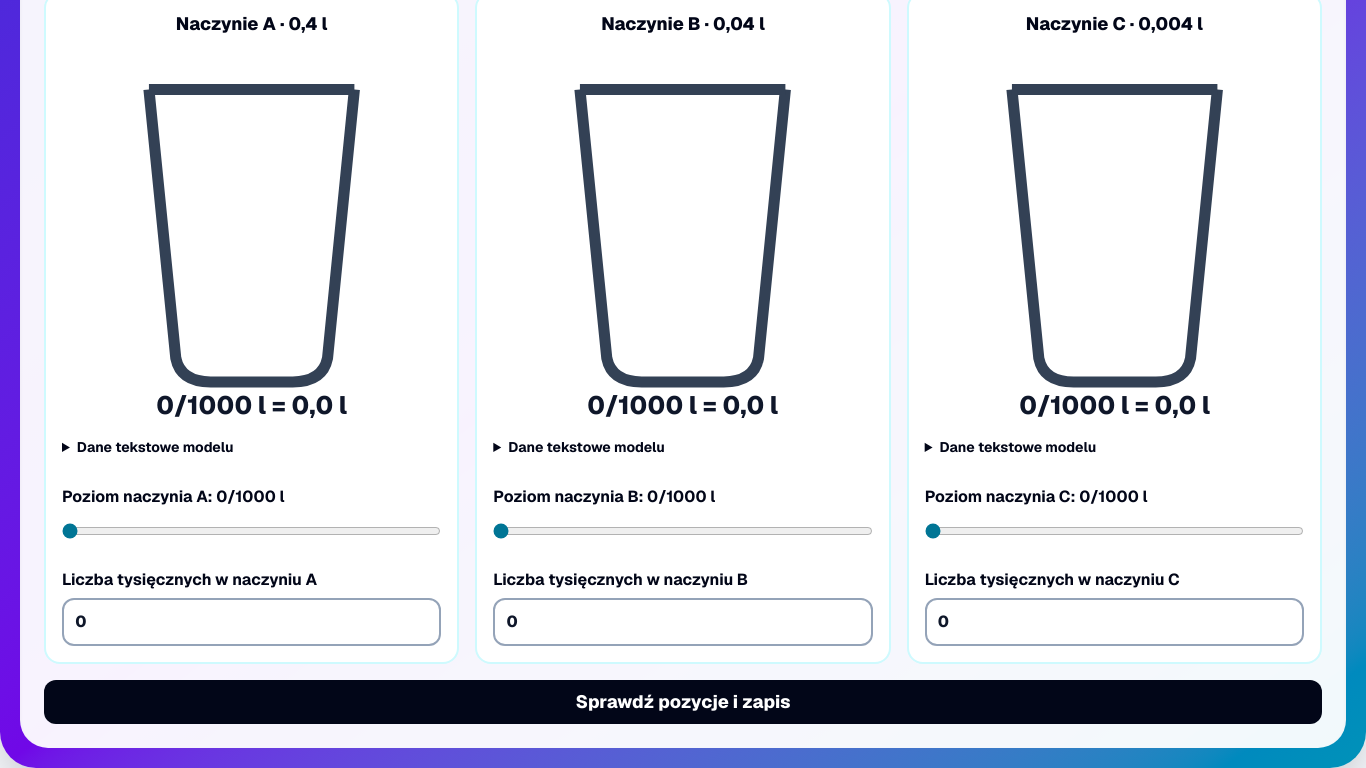
DecimalNotationL2Lab przez lokalny adapter L1 › odmierza 0,4 l, 0,04 l i 0,004 l z lekką wodą oraz alternatywą tekstową
(page scrolled)
Replace the text in the field labelled "Liczba tysięcznych w naczyniu A" with "400". click: (252, 622)
box: [62,598,441,646]
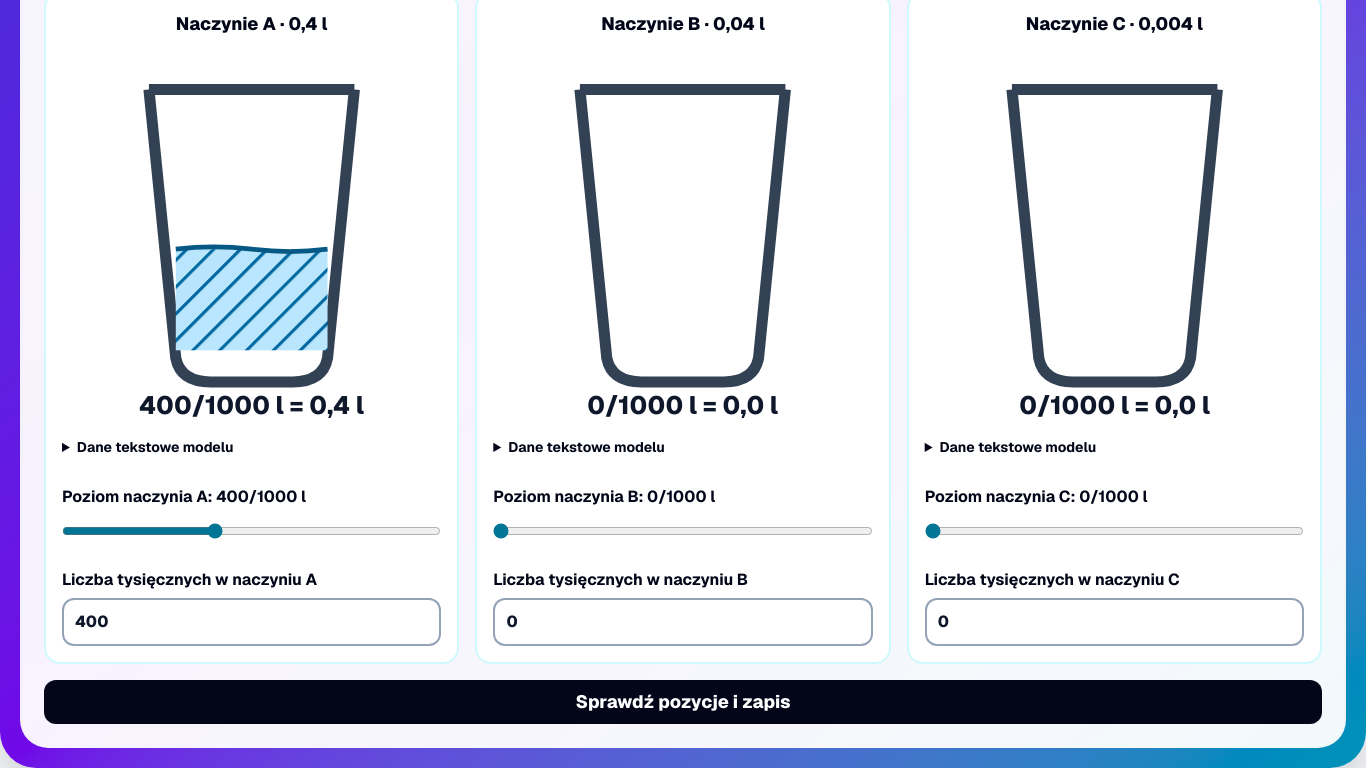
Replace the text in the field labelled "Liczba tysięcznych w naczyniu B" with "40". click: (683, 622)
box: [493,598,873,646]
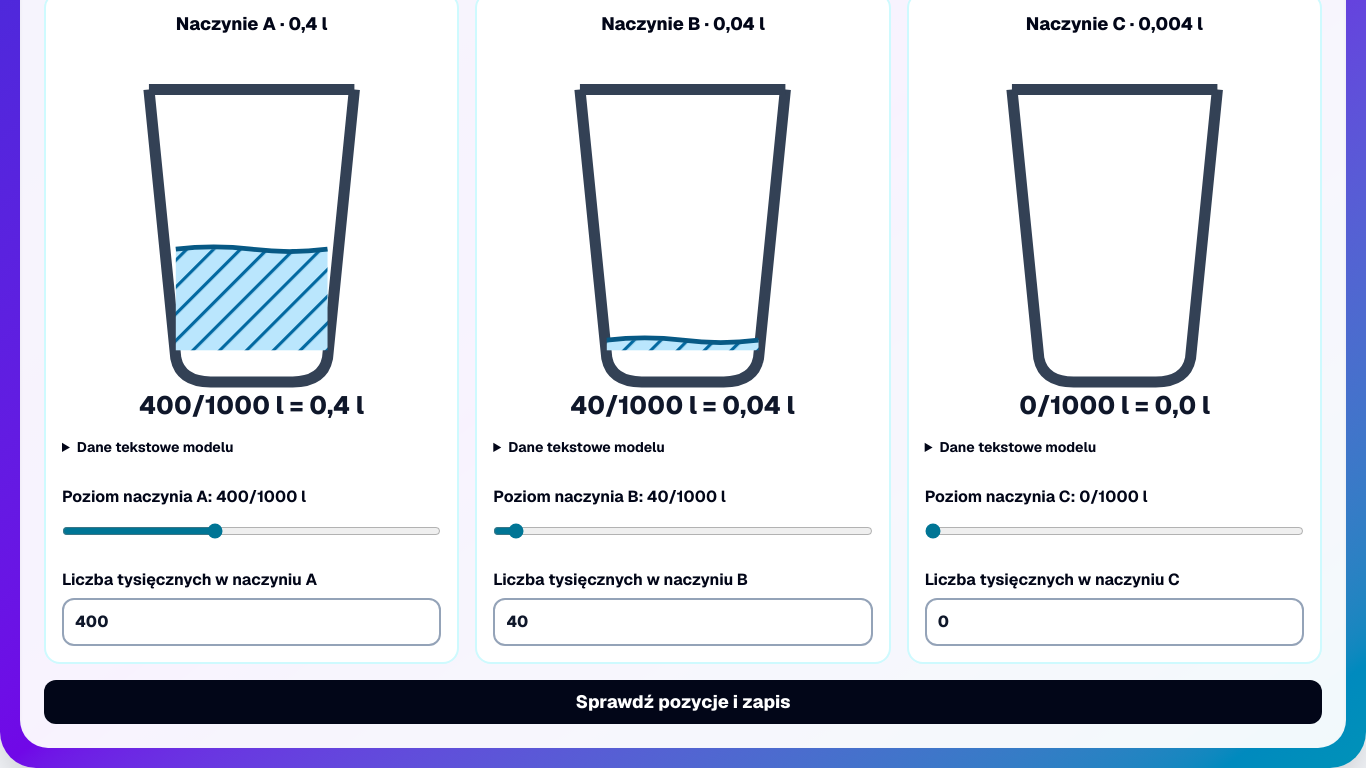
Replace the text in the field labelled "Liczba tysięcznych w naczyniu C" with "4". click: (1114, 622)
box: [925,598,1304,646]
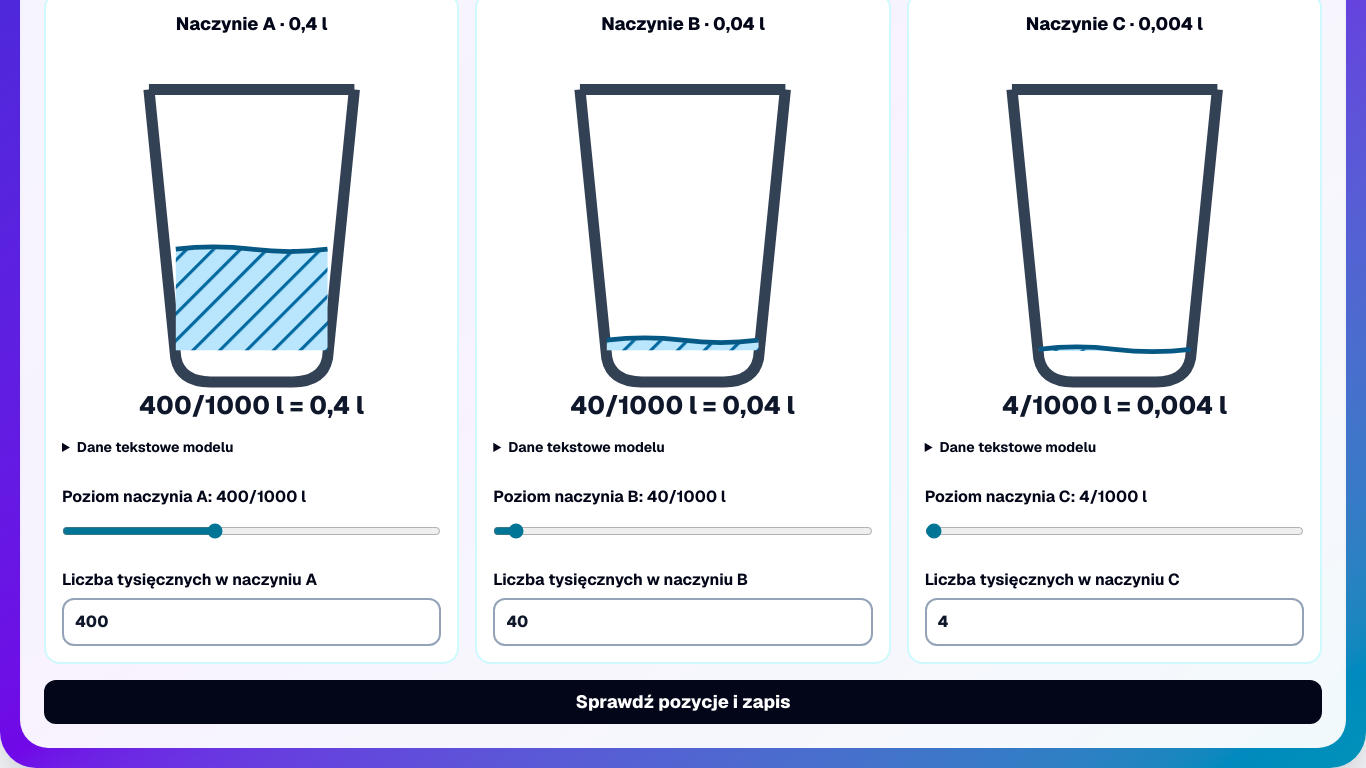
Expected: the picture "400/1000 l = 0,4 l" is shown, [62,50,441,421]
Expected: the picture "40/1000 l = 0,04 l" is shown, [493,50,873,421]
Click the button "Sprawdź pozycje i zapis". click: (683, 702)
box: [44,680,1322,724]
(page scrolled)
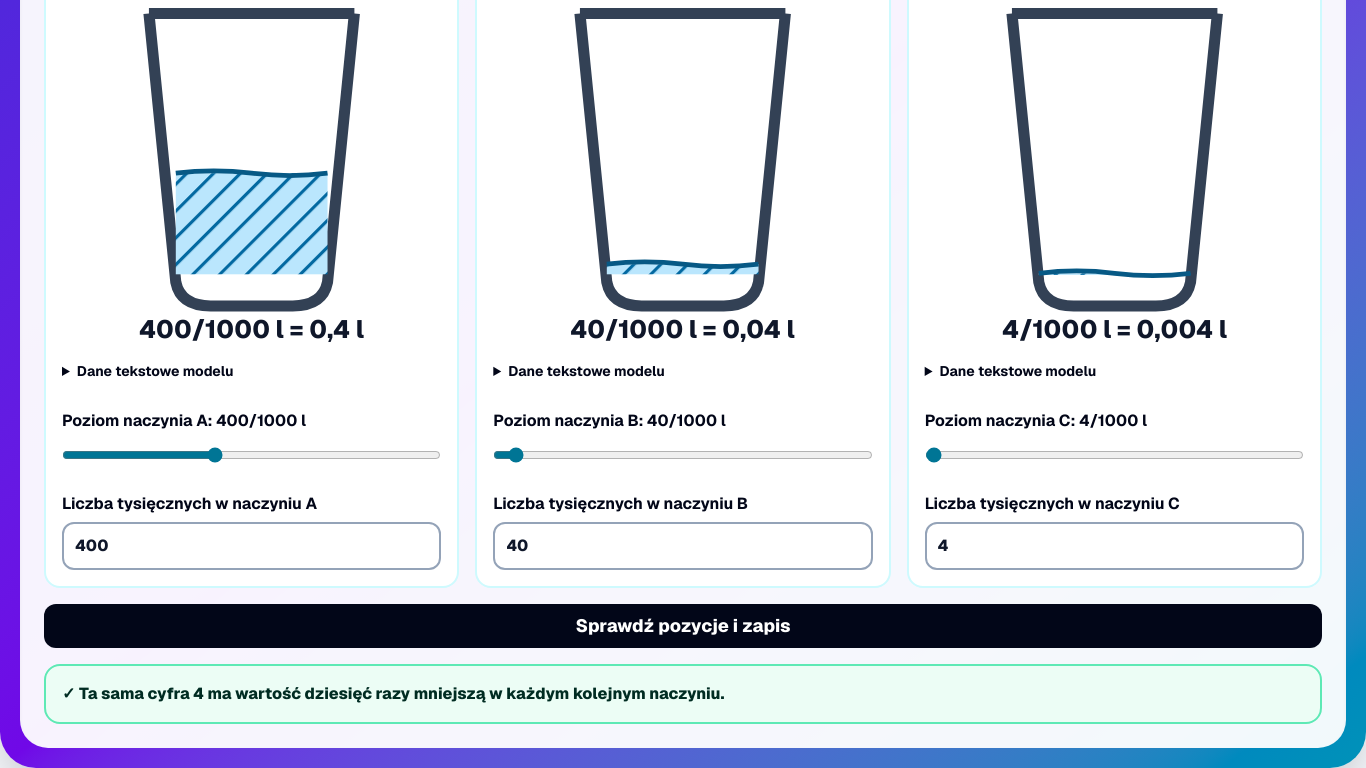
Now the message shows "dziesięć razy mniejszą", box [79,683,724,704]
